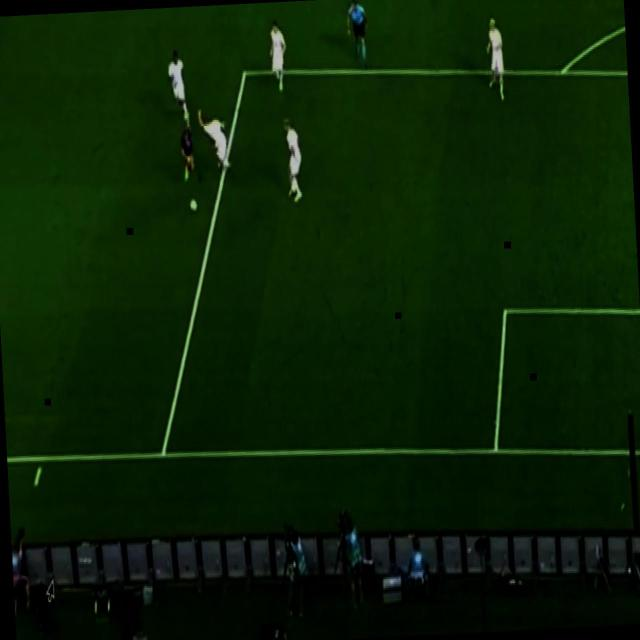ball: (188, 197, 198, 214)
player-white: (197, 107, 232, 173), (345, 0, 372, 72), (165, 47, 189, 126), (484, 16, 506, 101), (283, 117, 304, 204), (267, 19, 289, 93), (178, 124, 196, 183)
